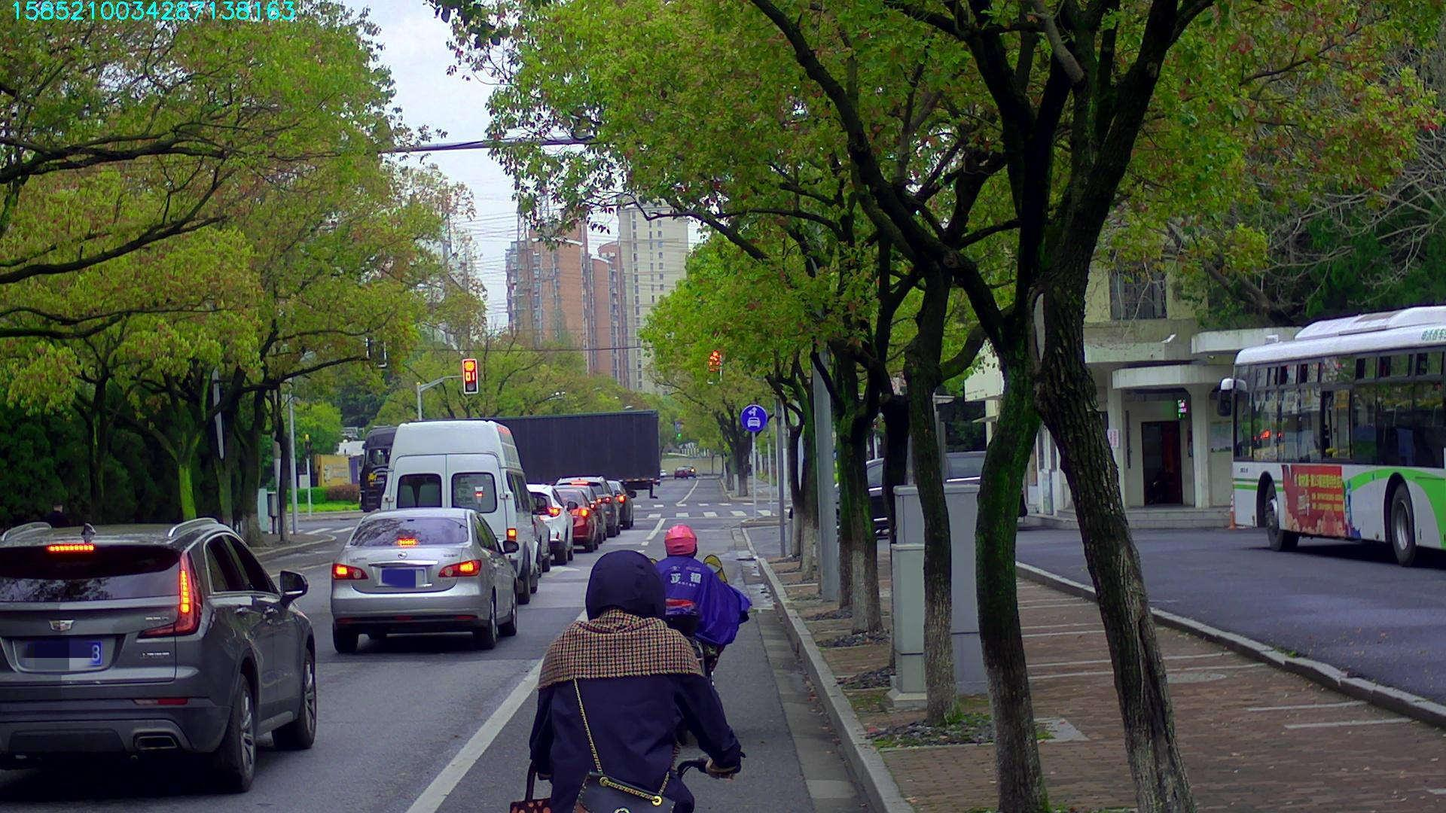red: (462, 359, 477, 391), (707, 350, 720, 382)
